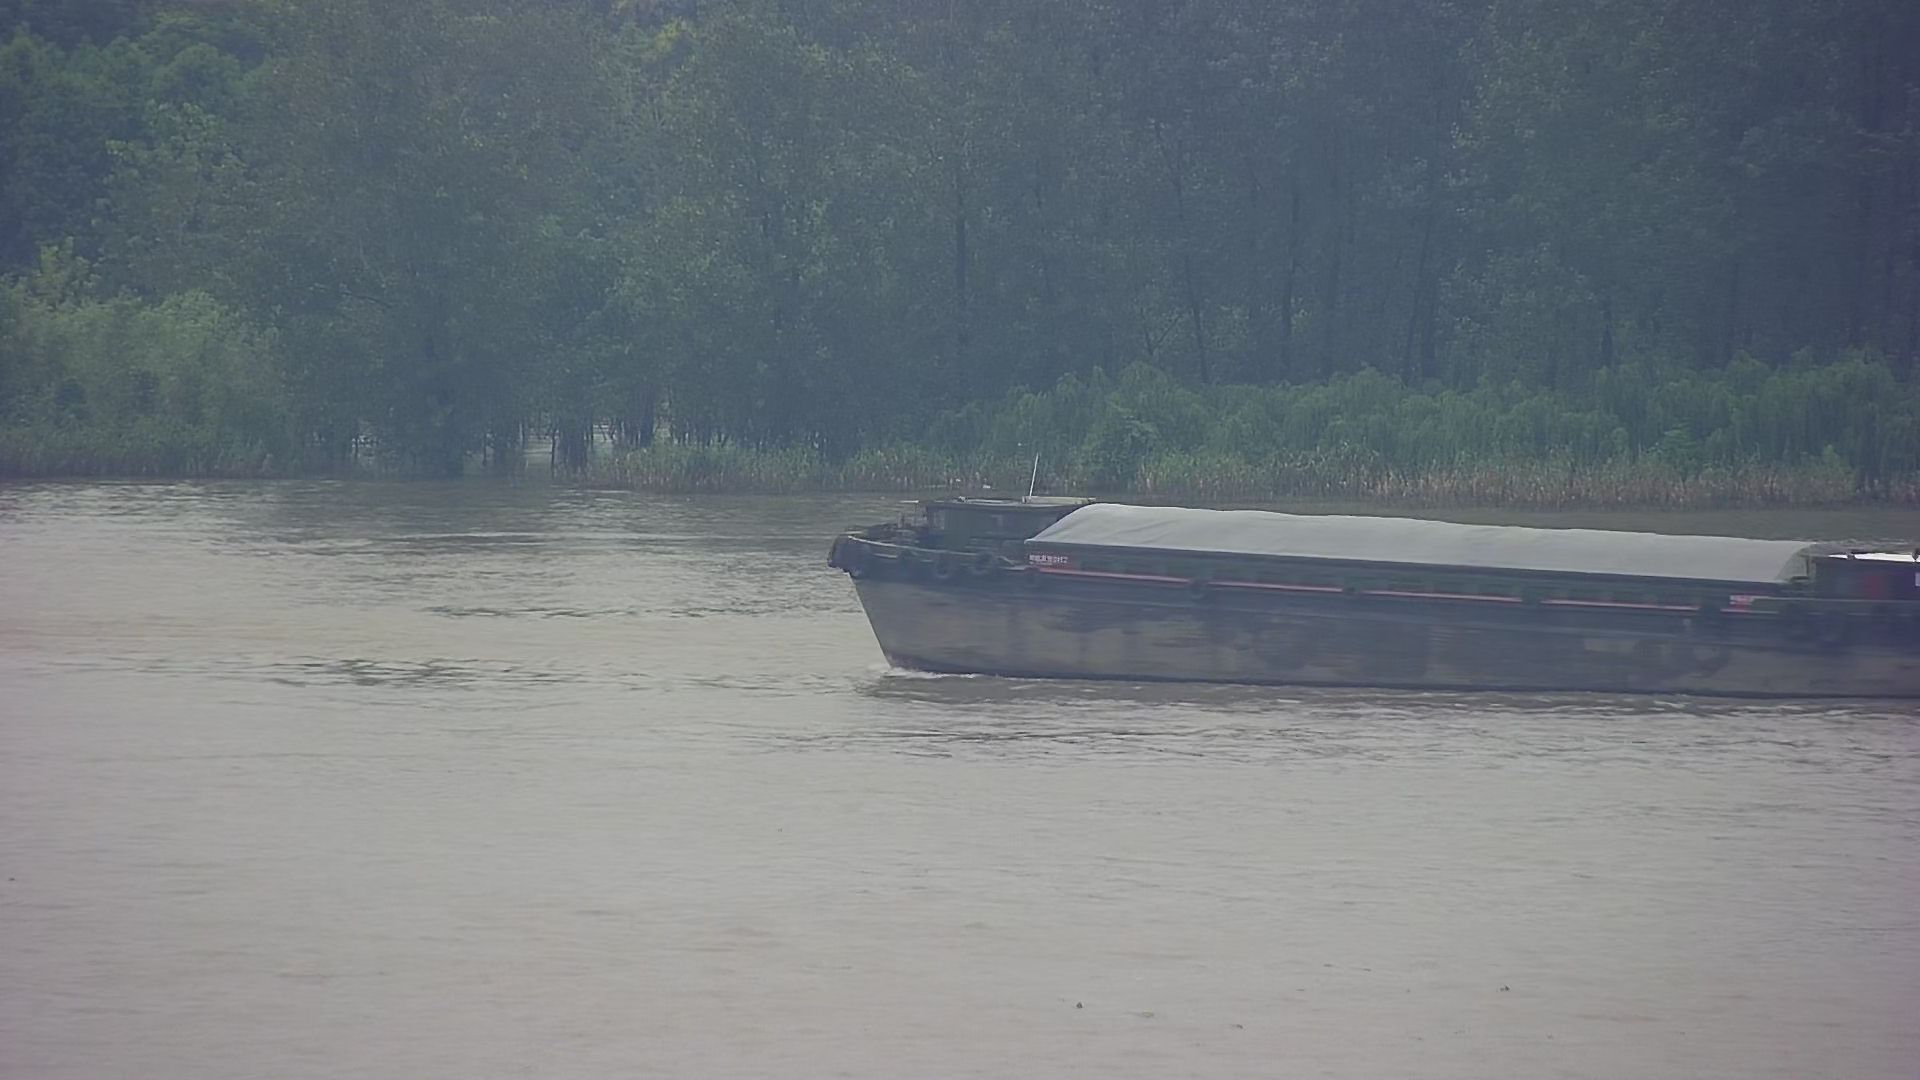ship: (823, 439, 1920, 727)
